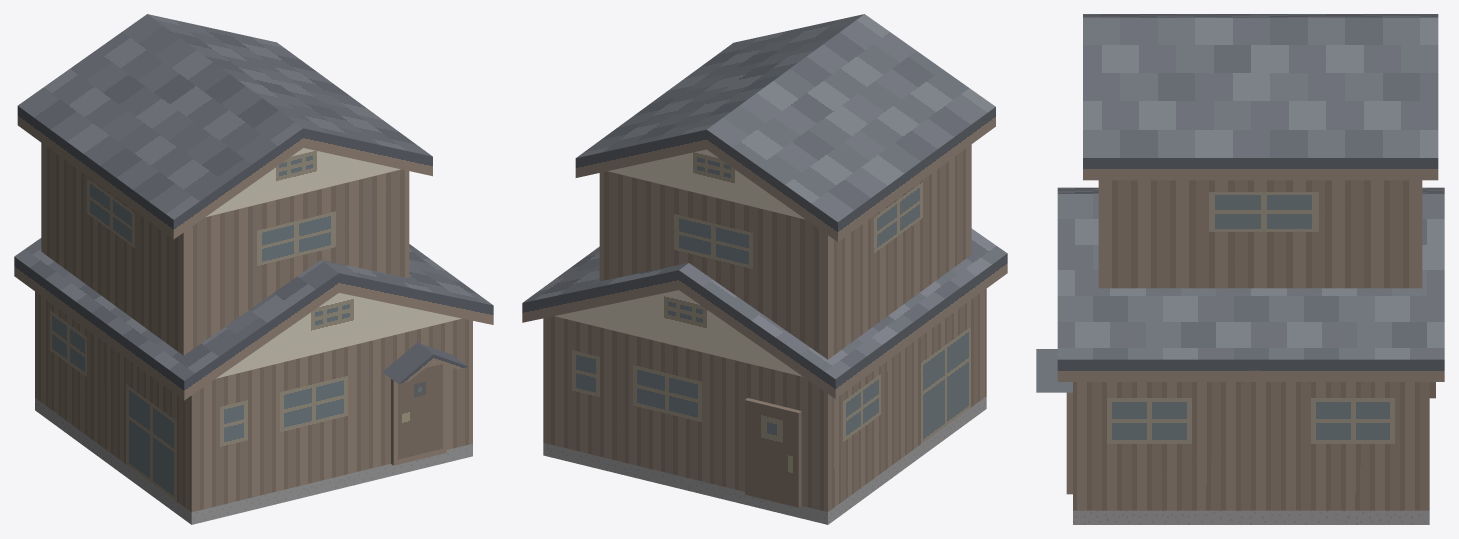
Rendered from 0377_Noguchi_Residence.glb.
The picture shows the model from 3 angles, left to right: view 1: azimuth 30°, elevation 25°; view 2: azimuth 150°, elevation 25°; view 3: azimuth 270°, elevation 25°; orthographic projection. The views are drawn at different scales.
Parts seen in each view (by area): view 1: part_0; view 2: part_0; view 3: part_0.
Boxes of the visible parts, left/top/right/bottom form: part_0: left=14, top=14, right=493, bottom=524; part_0: left=522, top=14, right=1007, bottom=524; part_0: left=1036, top=14, right=1444, bottom=524.
Size of the model in its own units: 6.4 by 7.22 by 6.43.
1 material, 1 textured.
